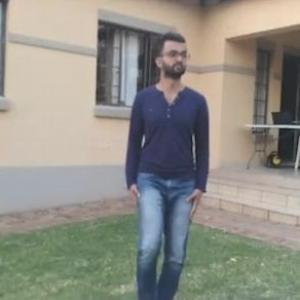follow: (128, 31, 208, 260)
